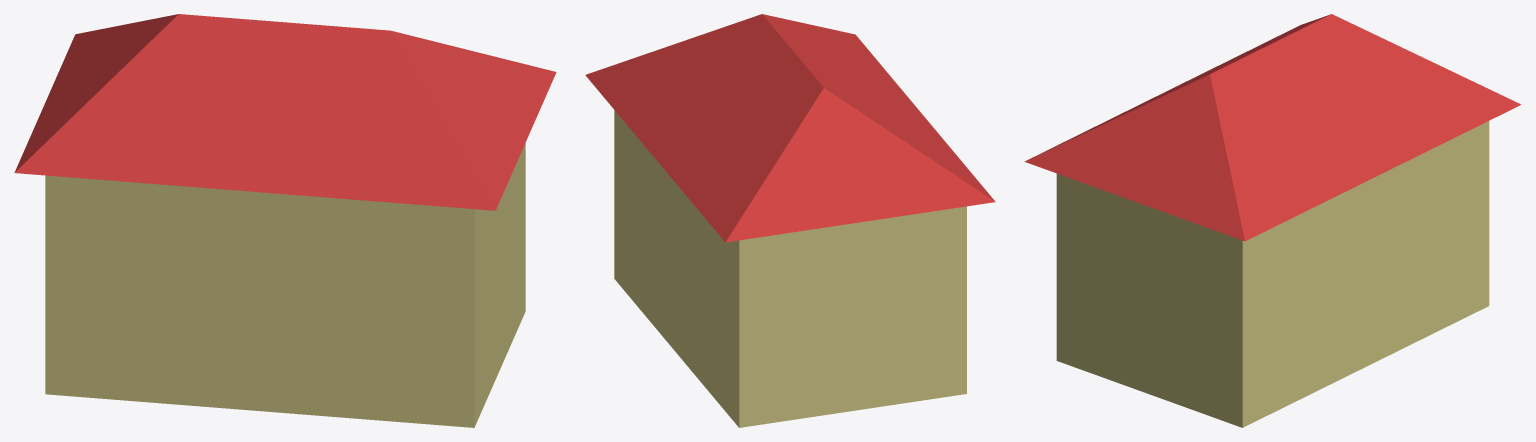
The picture shows the model from 3 angles, left to right: view 1: azimuth 30°, elevation 25°; view 2: azimuth 150°, elevation 25°; view 3: azimuth 270°, elevation 25°; orthographic projection. The views are drawn at different scales.
Parts seen in each view (by area): view 1: group_5, group_3, group_4; view 2: group_5, group_3, group_4; view 3: group_5, group_3, group_4.
Boxes of the visible parts, bbox=[...] form: group_5: bbox=[45, 143, 525, 427]; group_3: bbox=[15, 14, 554, 210]; group_4: bbox=[14, 30, 556, 210]; group_5: bbox=[614, 110, 966, 427]; group_3: bbox=[591, 14, 995, 242]; group_4: bbox=[585, 30, 994, 242]; group_5: bbox=[1056, 85, 1489, 427]; group_3: bbox=[1025, 14, 1488, 240]; group_4: bbox=[1024, 24, 1521, 241].
Size of the model in its own units: 16.7 by 16.21 by 10.38.
